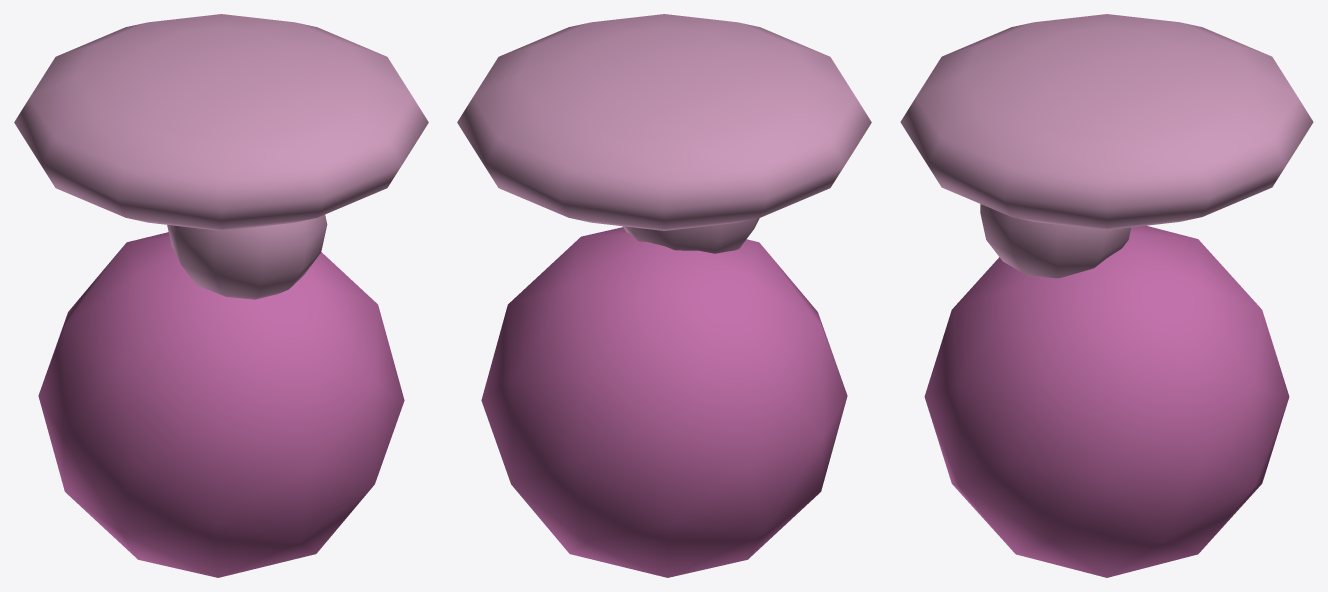
The model's file is mushroom_monster_2.glb.
The picture shows the model from 3 angles, left to right: view 1: azimuth 30°, elevation 25°; view 2: azimuth 150°, elevation 25°; view 3: azimuth 270°, elevation 25°; orthographic projection.
Parts seen in each view (by area): view 1: CoreBody, MOTIF_mushroom_cap, Head; view 2: CoreBody, MOTIF_mushroom_cap, Head; view 3: CoreBody, MOTIF_mushroom_cap, Head.
Boxes of the visible parts, left/top/right/bottom form: CoreBody: left=38, top=232, right=404, bottom=577; MOTIF_mushroom_cap: left=14, top=14, right=428, bottom=230; Head: left=167, top=214, right=327, bottom=299; CoreBody: left=481, top=227, right=847, bottom=577; MOTIF_mushroom_cap: left=457, top=14, right=871, bottom=230; Head: left=622, top=218, right=759, bottom=253; CoreBody: left=924, top=225, right=1289, bottom=577; MOTIF_mushroom_cap: left=900, top=14, right=1313, bottom=229; Head: left=980, top=204, right=1131, bottom=278.
Size of the model in its own units: 1.5 by 2.02 by 1.5.
